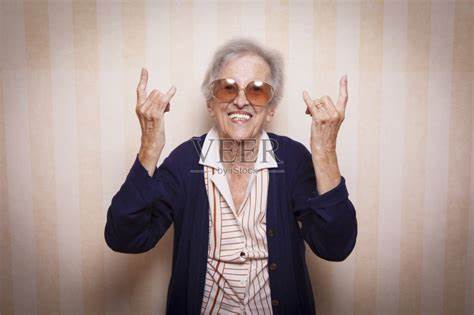no-phone: (297, 68, 356, 170), (130, 63, 178, 157)
